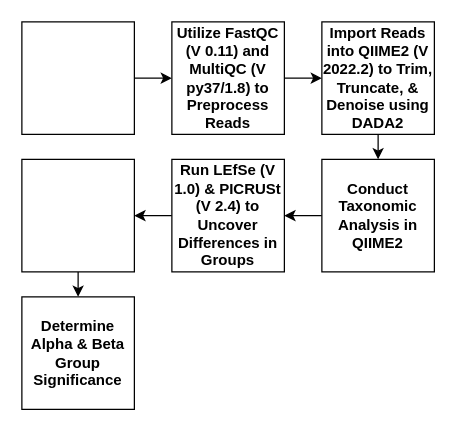
Some shapes in this 456 by 431 pixel diagram are drawn without their labels. Each missing label, with the centre of its shape:
"Create Relative Abundance Barplots in R (V 4.1.2)" goes at pixel 77 215.
"Obtain 16s rRNA Raw Reads" goes at pixel 77 77.
